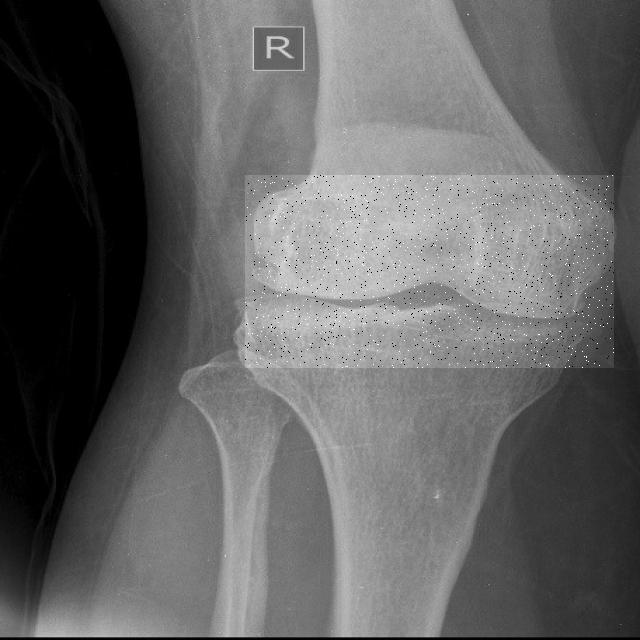osteo: (245, 175, 614, 368)
